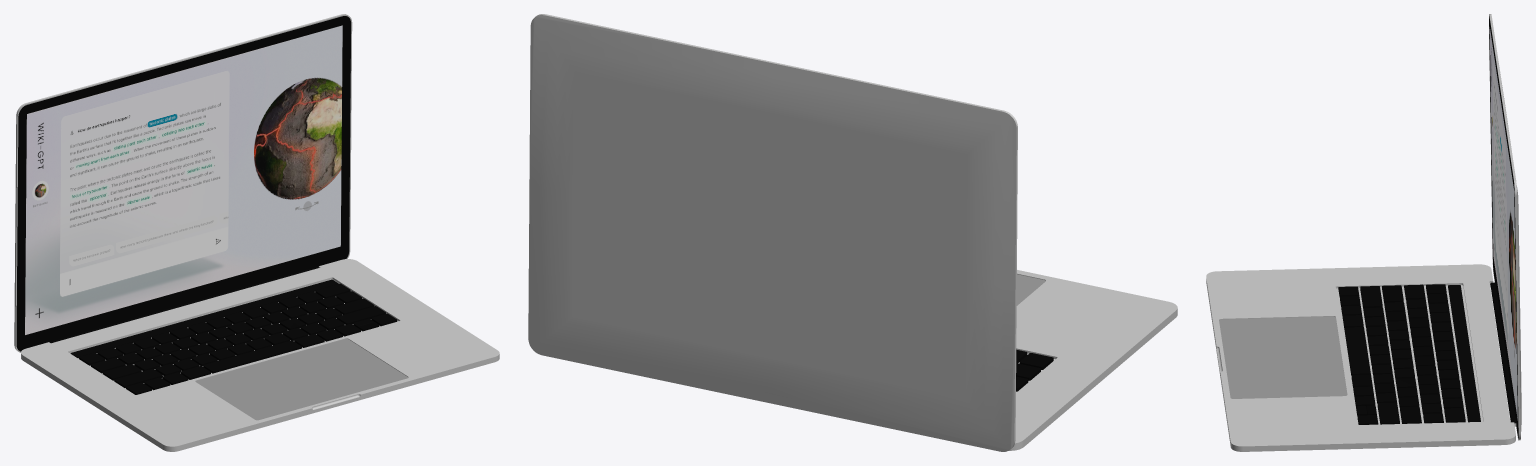
The model's file is conversational design.gltf.
3 renders of one model, left to right at view 1: azimuth 30°, elevation 25°; view 2: azimuth 150°, elevation 25°; view 3: azimuth 270°, elevation 25°, orthographic. The views are drawn at different scales.
Visible parts, largest first — view 1: screen; view 2: screen; view 3: screen.
Boxes of the visible parts, left/top/right/bottom form: screen: left=14, top=14, right=499, bottom=451; screen: left=528, top=14, right=1177, bottom=451; screen: left=1206, top=14, right=1521, bottom=451.
Bounding box in the file's own units: 0.9151 × 0.6167 × 0.6682.
